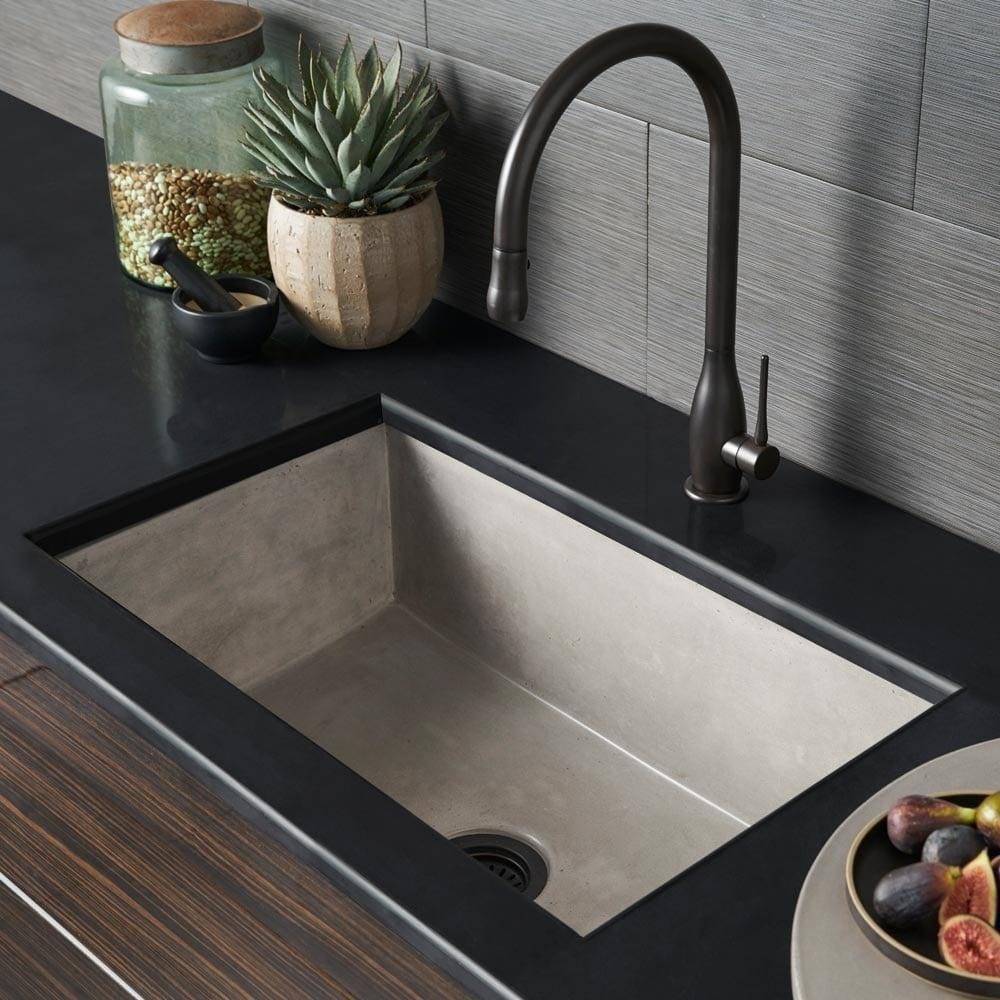Lavaplatos: (3, 40, 999, 953)
